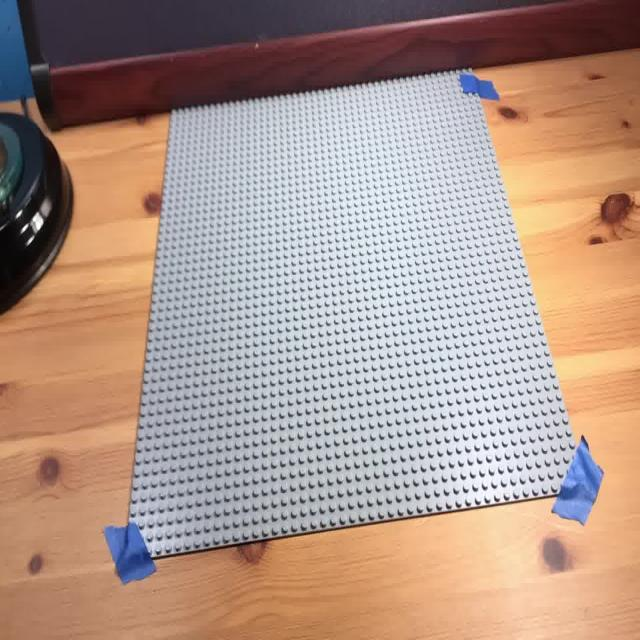figure: (131, 72, 578, 544)
